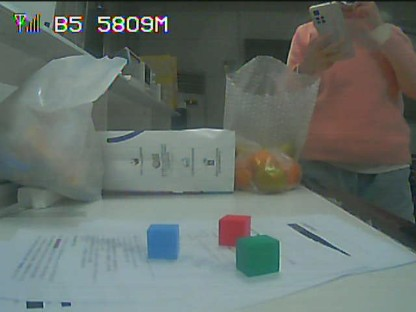b: (147, 225, 178, 257)
g: (238, 238, 278, 273)
r: (219, 215, 247, 244)
